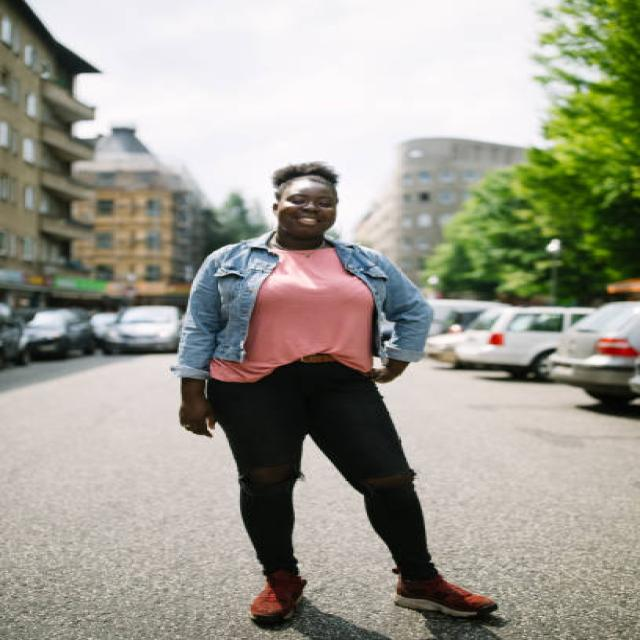Real human 2: (171, 145, 535, 640)
